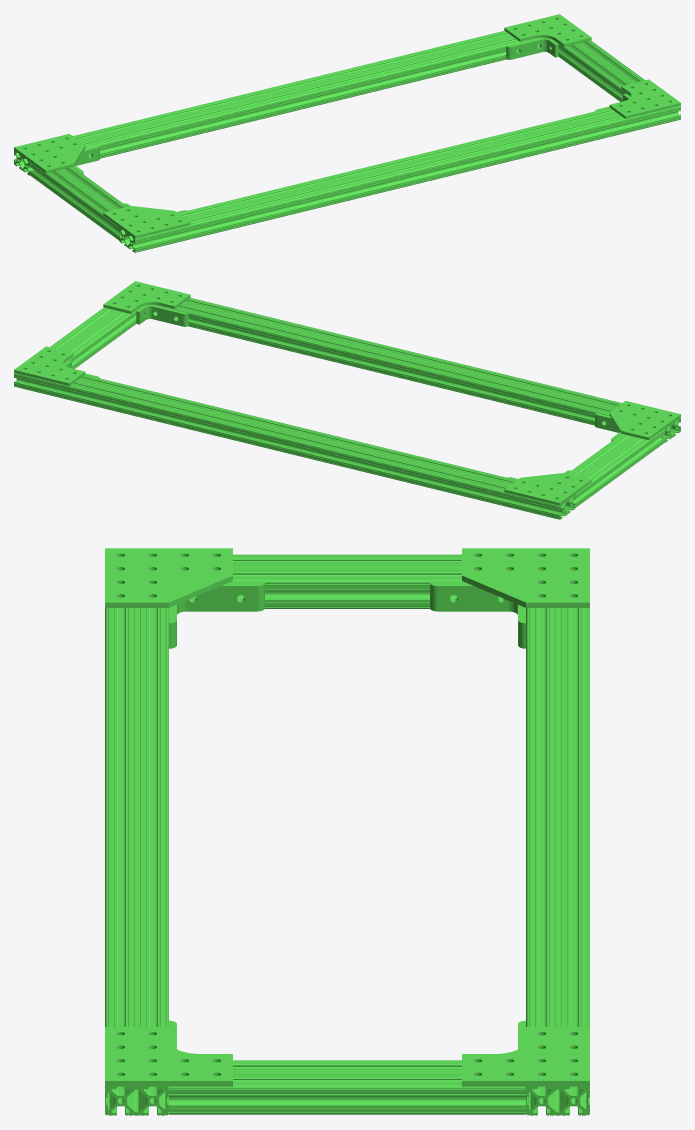
The model's file is frame.dae.
3 renders of one model, top to bottom at view 1: azimuth 30°, elevation 25°; view 2: azimuth 150°, elevation 25°; view 3: azimuth 270°, elevation 25°, orthographic. The views are drawn at different scales.
Visible parts, largest first — view 1: frame; view 2: frame; view 3: frame.
Part boxes in pixels (x1,y1,x2,y2): frame: [14, 14, 680, 252]; frame: [14, 281, 680, 519]; frame: [105, 548, 589, 1115].
Bounding box in the file's own units: 1 × 0.3849 × 0.0302.
